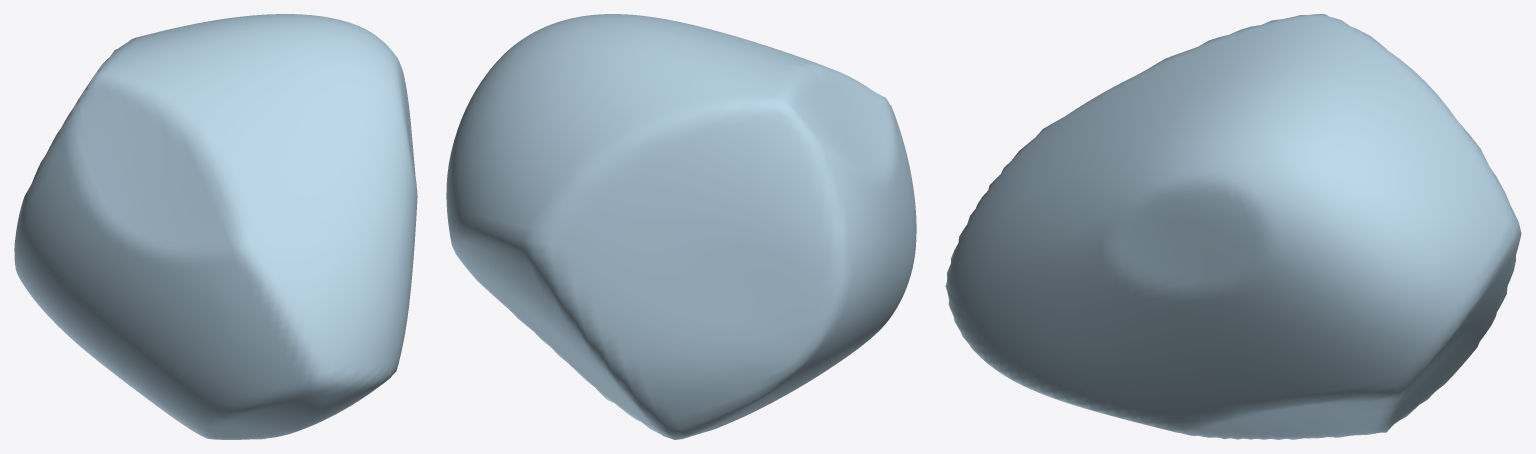
Rendered from Stone2.fbx.
3 views of the same model, side by side, from view 1: azimuth 30°, elevation 25°; view 2: azimuth 150°, elevation 25°; view 3: azimuth 270°, elevation 25° (orthographic). The views are drawn at different scales.
Parts seen in each view (by area): view 1: 立方体.001; view 2: 立方体.001; view 3: 立方体.001.
Boxes of the visible parts, <box> form: 立方体.001: <box>14,14,417,439</box>; 立方体.001: <box>446,14,916,439</box>; 立方体.001: <box>945,14,1521,439</box>.
Size of the model in its own units: 213 by 178 by 254.
